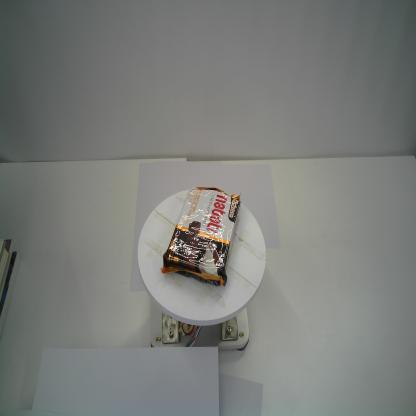Dessert: (160, 183, 241, 293)
